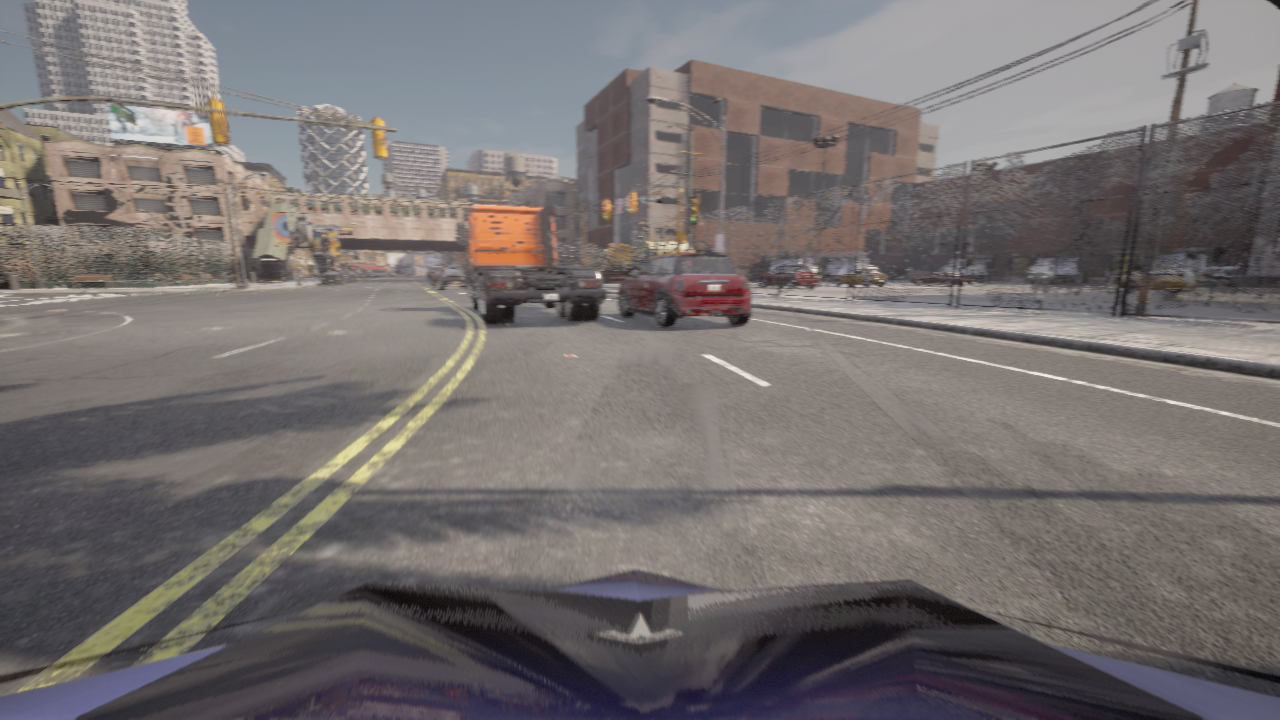cyclist: (0, 569, 1279, 719), (457, 203, 606, 324), (619, 248, 751, 326), (1112, 266, 1233, 292), (1166, 267, 1237, 291), (1027, 256, 1079, 283), (758, 265, 816, 288), (825, 259, 877, 281), (768, 258, 820, 280), (833, 268, 886, 287), (942, 259, 986, 281), (911, 272, 972, 286), (1155, 253, 1205, 270), (436, 269, 466, 289), (321, 271, 345, 285), (427, 266, 445, 284), (332, 269, 350, 283), (430, 270, 442, 286), (346, 271, 358, 282), (557, 263, 581, 268), (457, 269, 468, 272), (464, 273, 469, 278), (316, 274, 319, 276), (389, 273, 390, 276), (392, 273, 393, 276), (395, 273, 396, 276)
